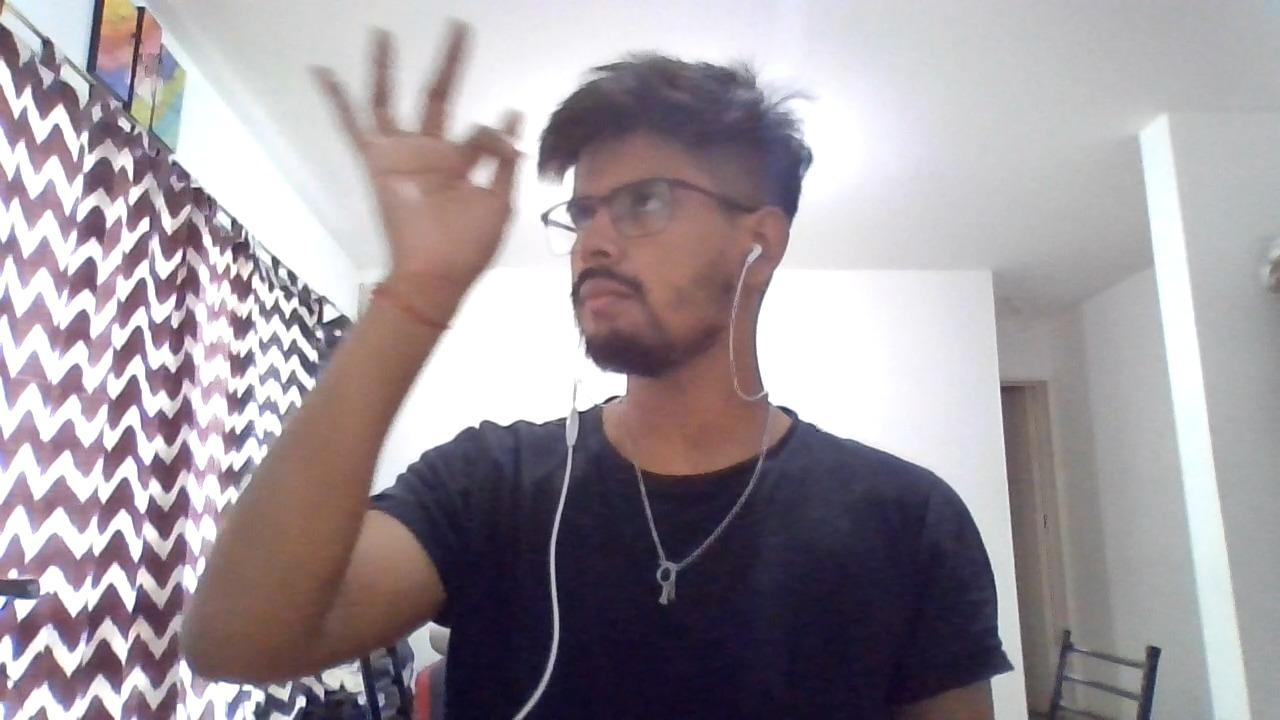Hospital: (184, 2, 951, 595)
